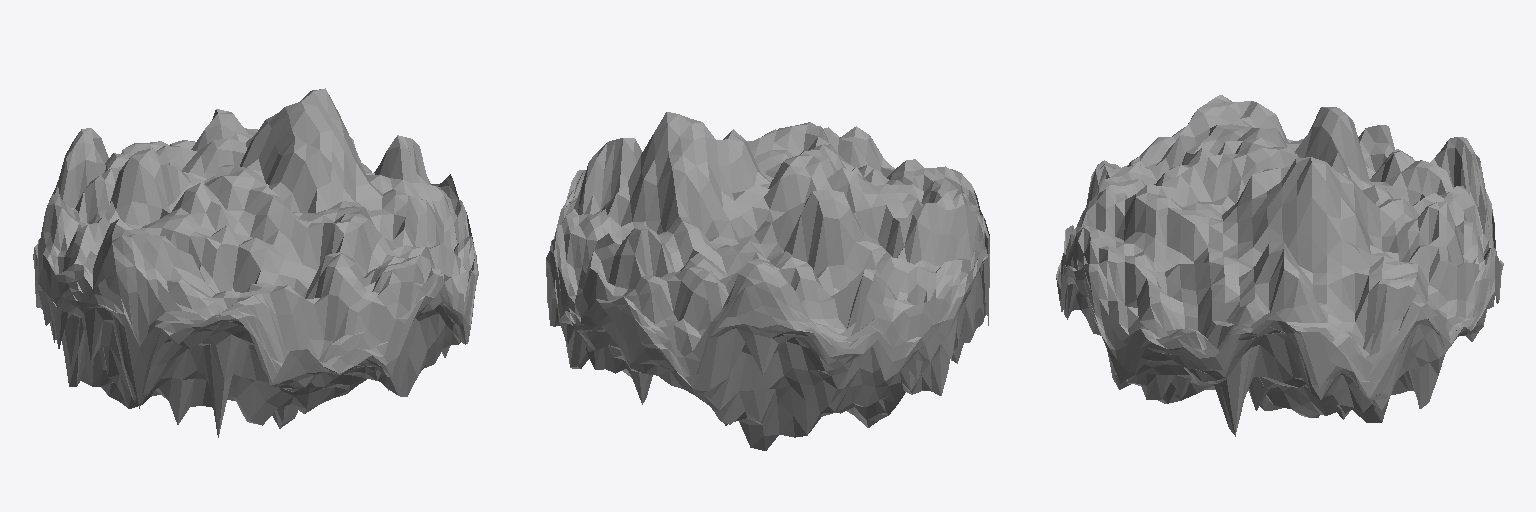
Rendered from island.obj.
3 views of the same model, side by side, from view 1: azimuth 30°, elevation 25°; view 2: azimuth 150°, elevation 25°; view 3: azimuth 270°, elevation 25° (orthographic).
Size of the model in its own units: 29.99 by 20 by 29.99.